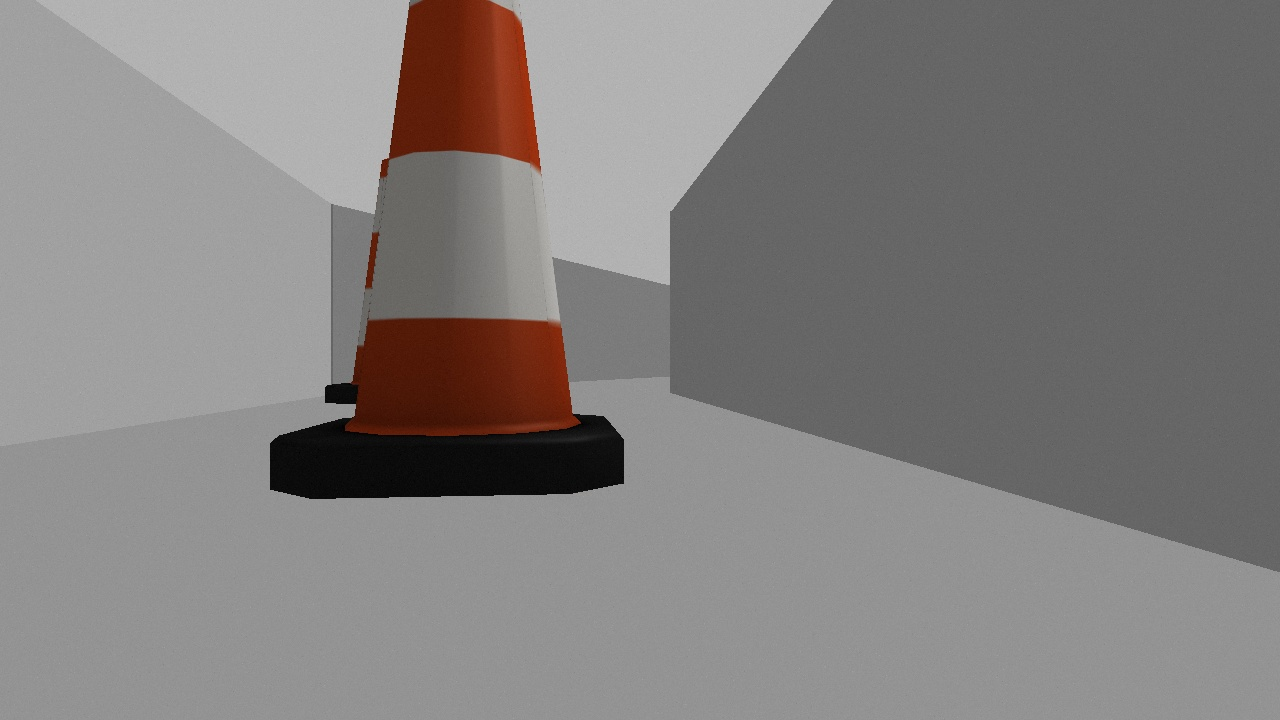barricade: (269, 1, 625, 500)
